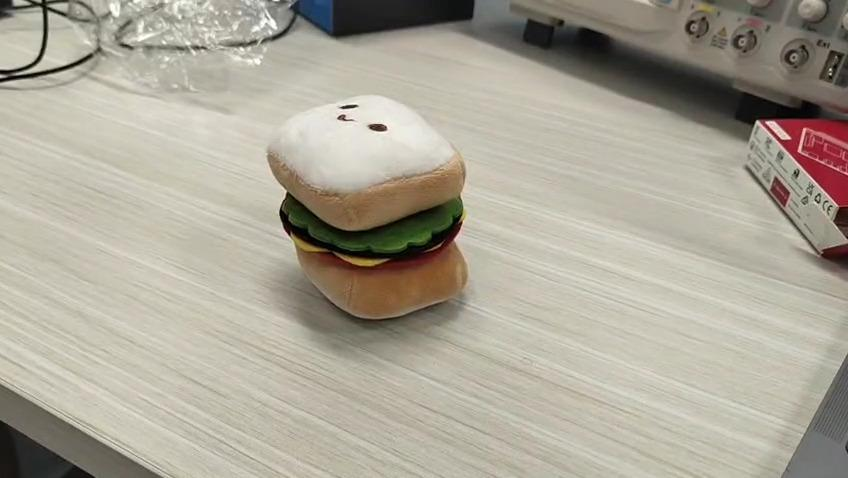objects: (266, 95, 469, 320)
